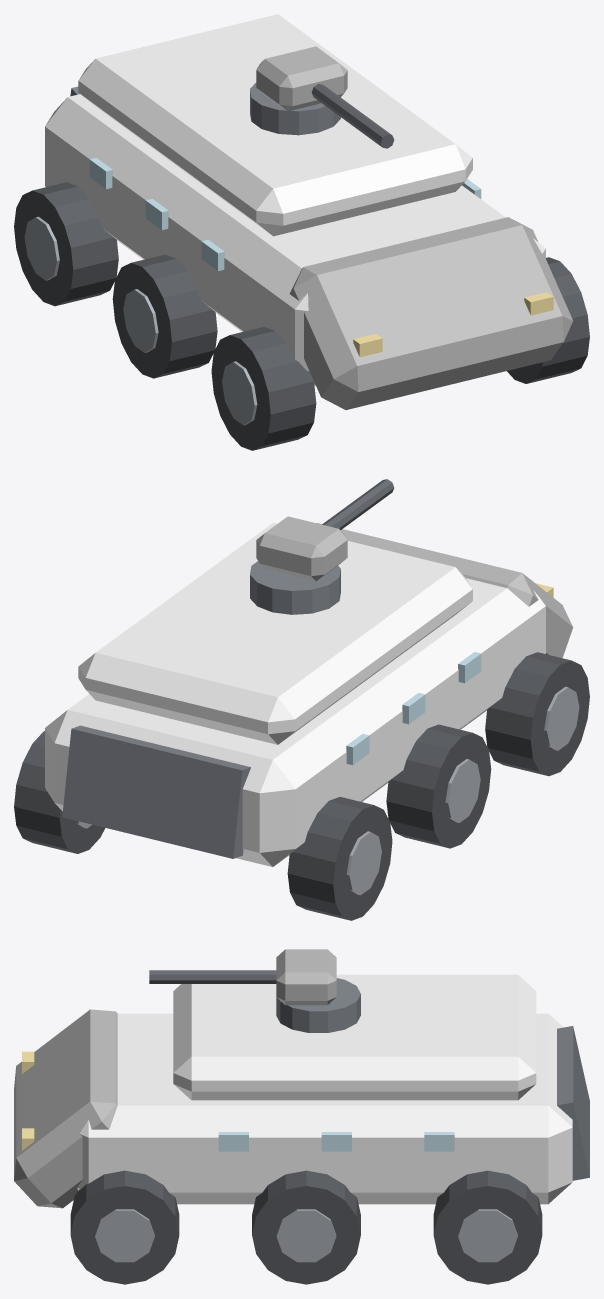
The model's file is apc.glb.
3 views of the same model, one above another, from view 1: azimuth 30°, elevation 25°; view 2: azimuth 150°, elevation 25°; view 3: azimuth 270°, elevation 25° (orthographic). The views are drawn at different scales.
Visible parts, largest first — view 1: main, turret; view 2: main, turret; view 3: main, turret.
Part boxes in pixels (x1,y1,x2,y2): main: (14, 14, 589, 450); turret: (250, 46, 394, 148); main: (14, 522, 589, 920); turret: (250, 479, 394, 614); main: (14, 974, 589, 1284); turret: (149, 949, 360, 1032).
Size of the model in its own units: 0.57 by 0.46 by 0.9521.
